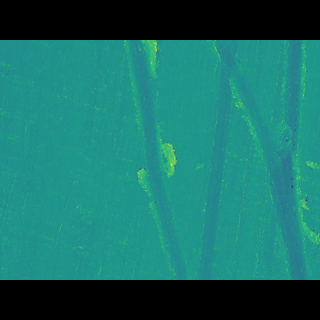Loch: (210, 69, 311, 251), (120, 68, 195, 251)
